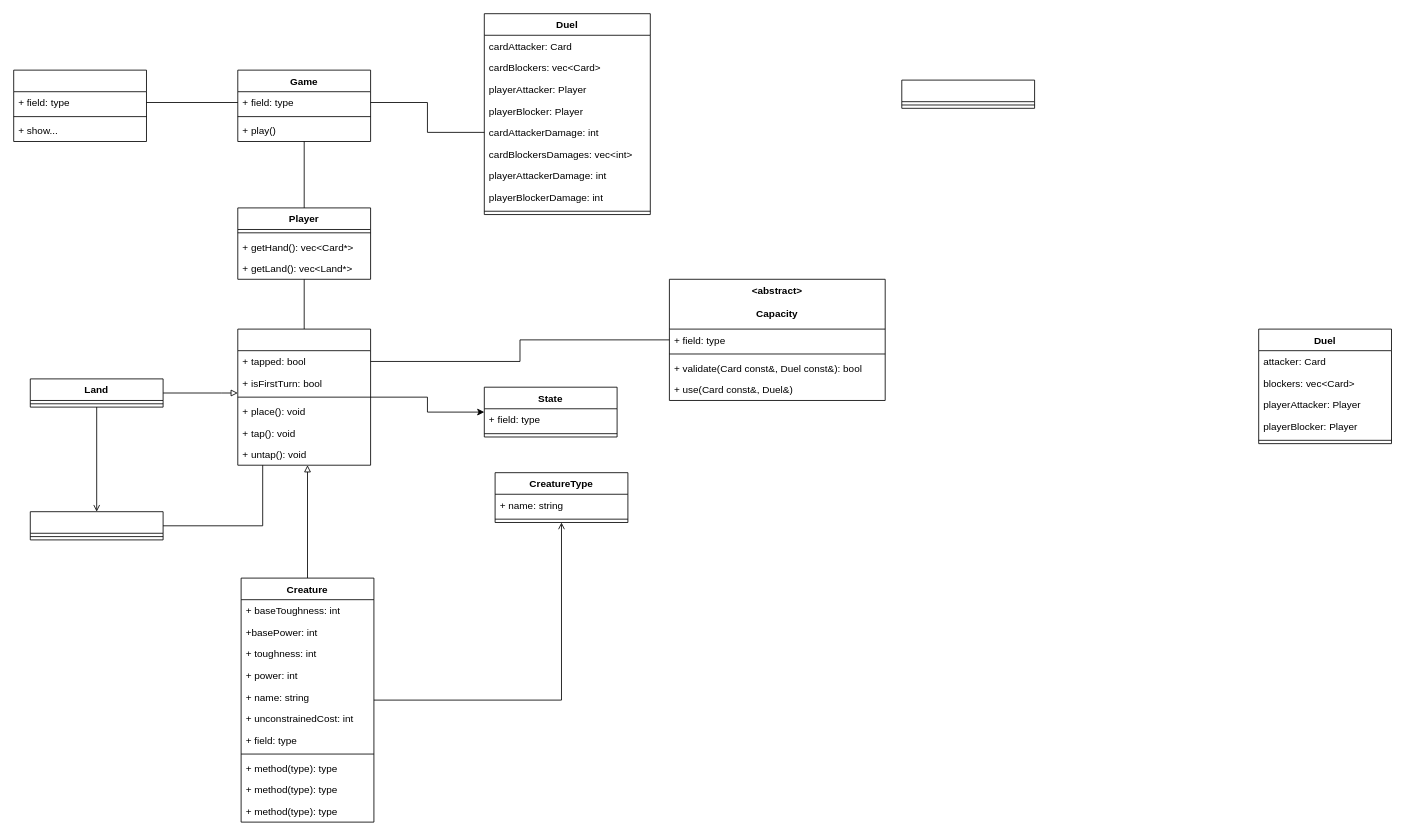
This 1405x836 diagram has some shape labels left out. The box of each missing label's shape, as (x1, y1, x2, y2) in pixels:
Card: (237, 328, 371, 465)
Classname: (901, 79, 1035, 108)
Interface: (13, 69, 146, 142)
Mana: (29, 511, 163, 540)
